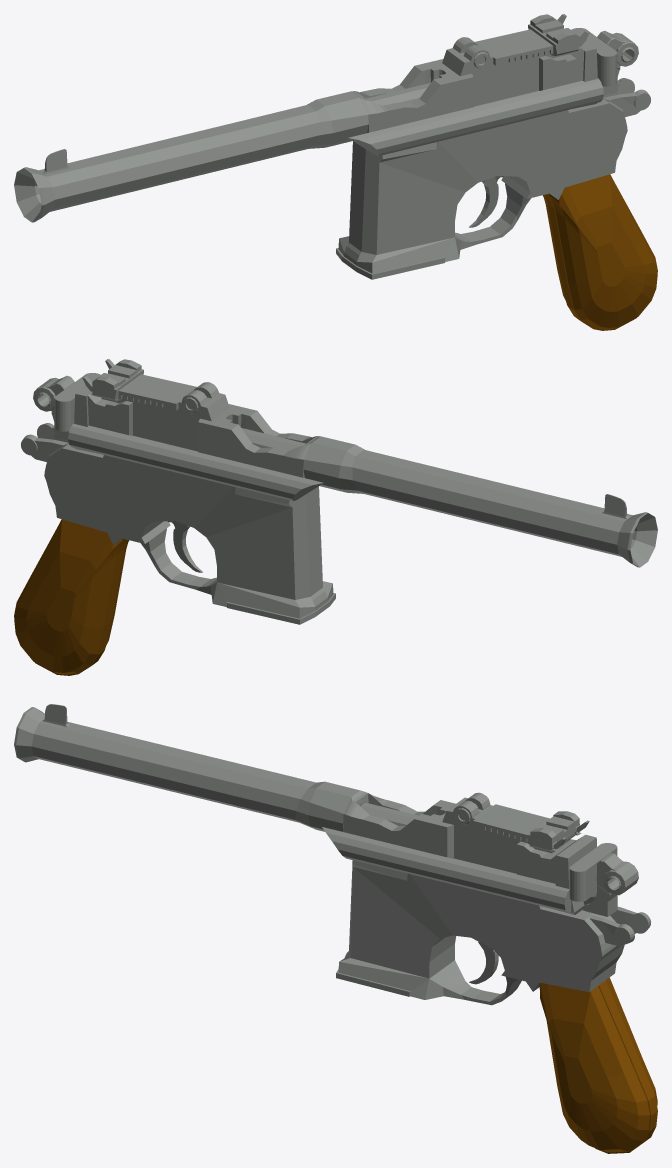
Rendered from My Mauser 1.fbx.
3 views of the same model, one above another, from view 1: azimuth 30°, elevation 25°; view 2: azimuth 150°, elevation 25°; view 3: azimuth 330°, elevation 25° (orthographic).
Parts seen in each view (by area): view 1: Gun Slide Outer Model, Gun Body Model, Gun Hilt Model, Gun Slide Inner Model, Gun Hammer Model, Gun Trigger Model; view 2: Gun Slide Outer Model, Gun Body Model, Gun Hilt Model, Gun Slide Inner Model, Gun Hammer Model, Gun Trigger Model; view 3: Gun Slide Outer Model, Gun Body Model, Gun Hilt Model, Gun Slide Inner Model, Gun Hammer Model.
Part boxes in pixels (box(x1,y1,x2,y2)): Gun Slide Outer Model: box(14, 14, 603, 222); Gun Body Model: box(336, 78, 650, 279); Gun Hilt Model: box(543, 174, 657, 330); Gun Slide Inner Model: box(366, 28, 617, 105); Gun Hammer Model: box(597, 30, 638, 95); Gun Trigger Model: box(469, 176, 503, 227); Gun Slide Outer Model: box(68, 359, 657, 567); Gun Body Model: box(21, 423, 335, 624); Gun Hilt Model: box(14, 519, 128, 675); Gun Slide Inner Model: box(54, 373, 305, 450); Gun Hammer Model: box(33, 375, 74, 440); Gun Trigger Model: box(168, 521, 202, 572); Gun Slide Outer Model: box(14, 704, 596, 914); Gun Body Model: box(336, 860, 650, 1005); Gun Hilt Model: box(539, 977, 657, 1153); Gun Slide Inner Model: box(360, 802, 617, 901); Gun Hammer Model: box(582, 853, 638, 916).
Size of the model in its own units: 348 by 169 by 37.81.
